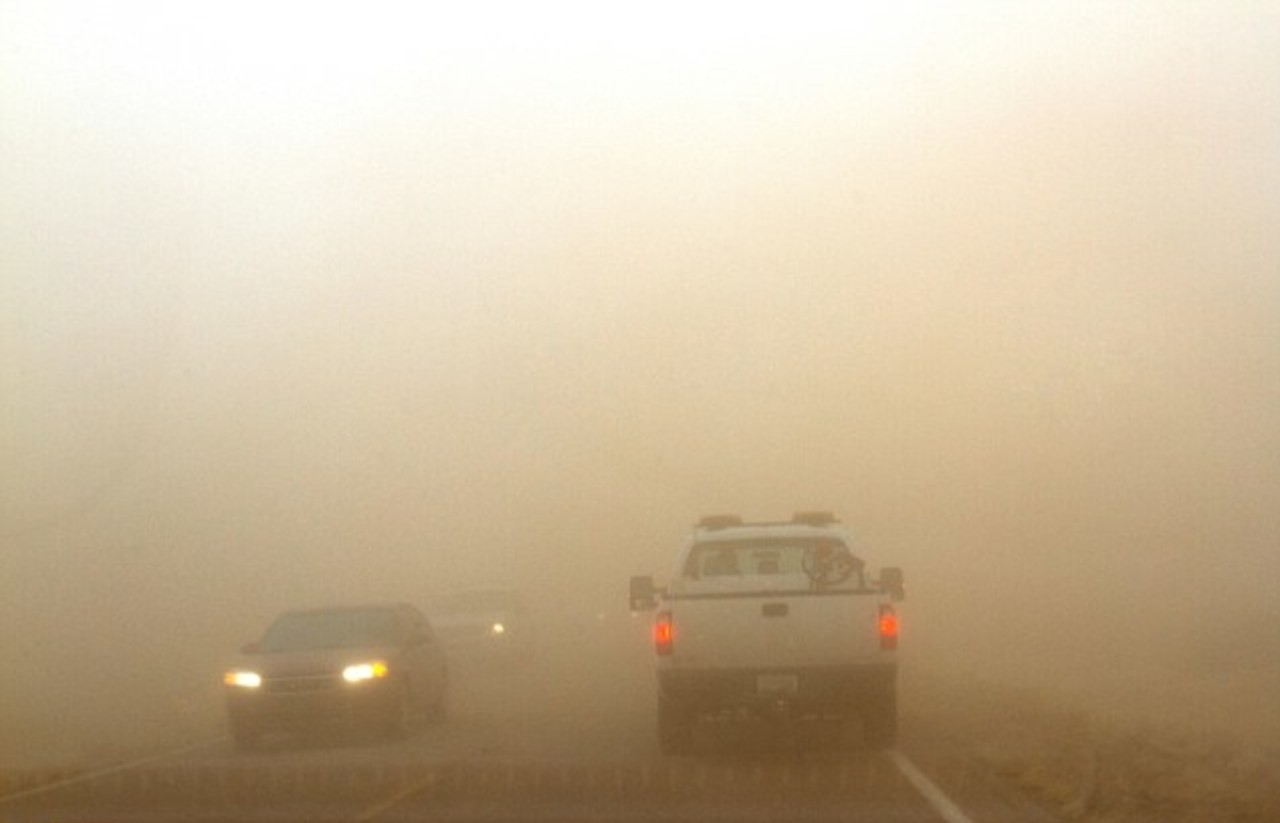car: (218, 603, 455, 750), (423, 591, 528, 677), (596, 586, 652, 635)
truck: (640, 509, 908, 763)
